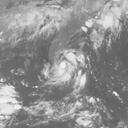cyclone: (43, 50, 86, 89)
